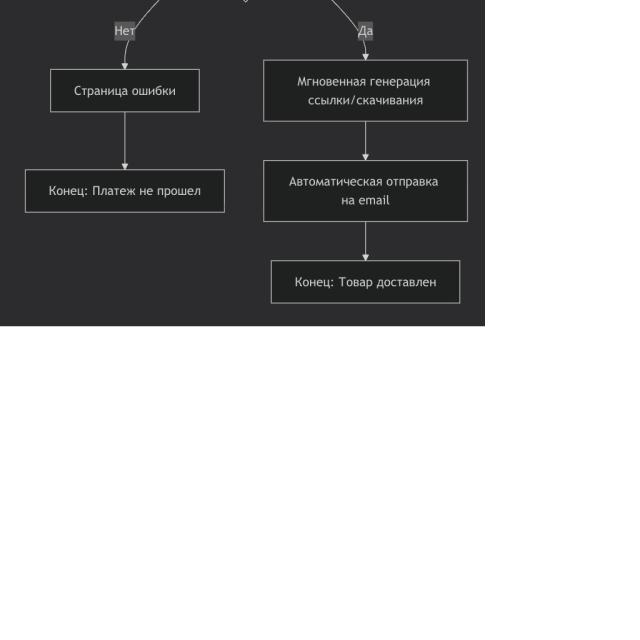arrow: (332, 0, 361, 33), (133, 0, 160, 30), (122, 112, 128, 169), (363, 222, 369, 261), (363, 122, 368, 159)
rectangle: (263, 59, 468, 122), (264, 160, 468, 221), (25, 170, 224, 213), (271, 260, 460, 303), (50, 69, 199, 112)
text_region: (349, 22, 378, 41), (114, 23, 137, 38)
